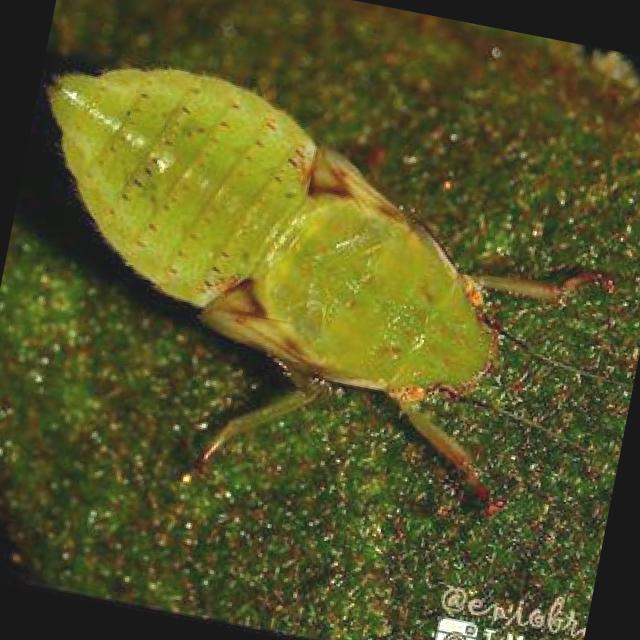green leaf hopper: (48, 68, 610, 509)
